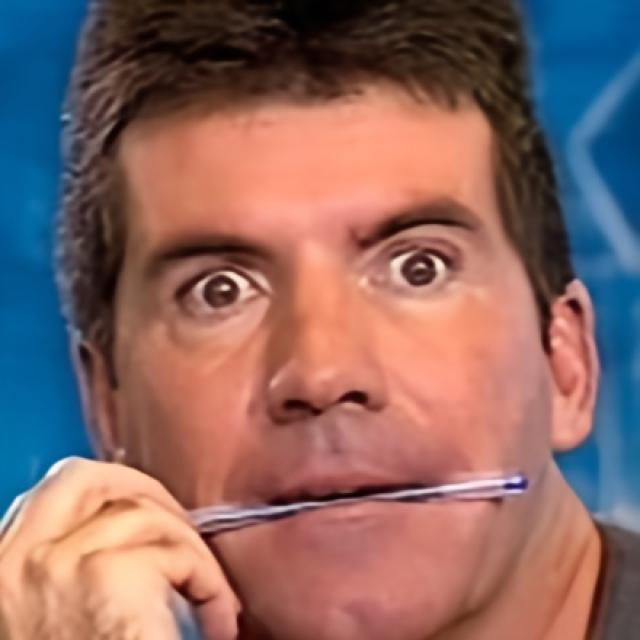fear: (113, 67, 548, 640)
